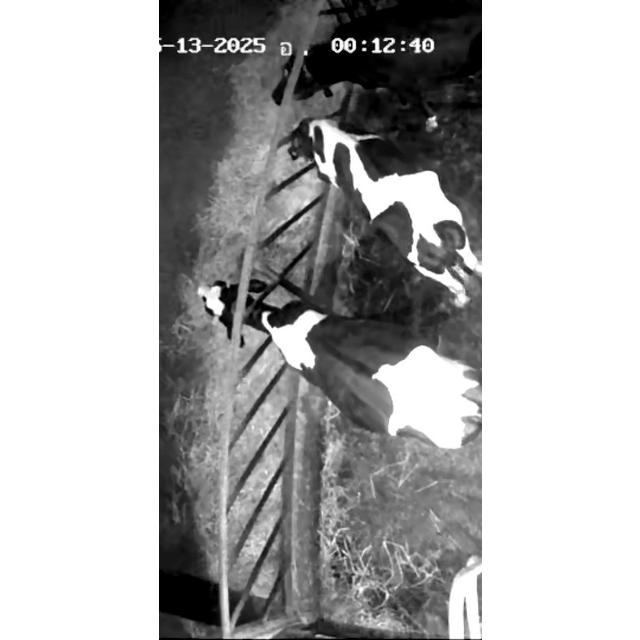eat: (176, 252, 334, 366), (242, 104, 406, 200), (252, 13, 426, 103)
